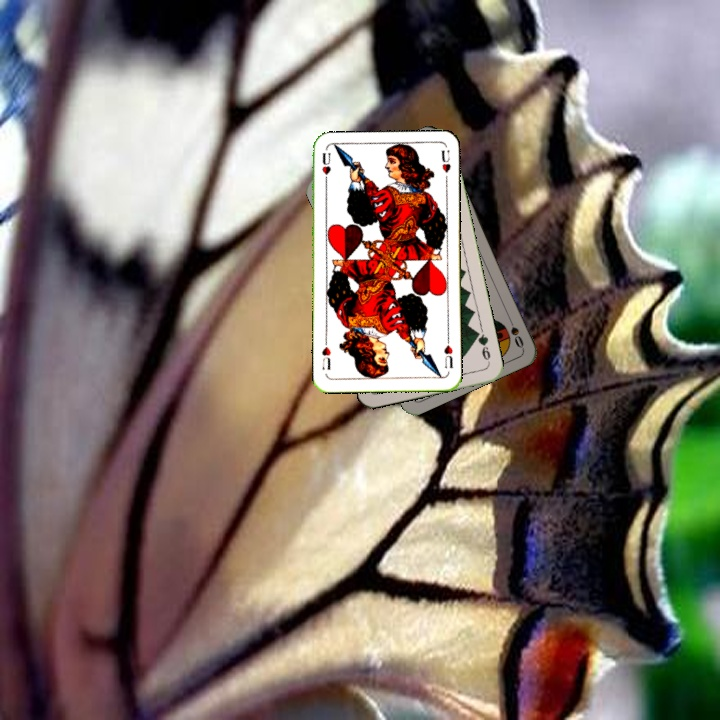G9: (472, 327, 493, 366)
HU: (318, 148, 333, 188), (440, 334, 455, 371)
SO: (503, 312, 526, 351)
